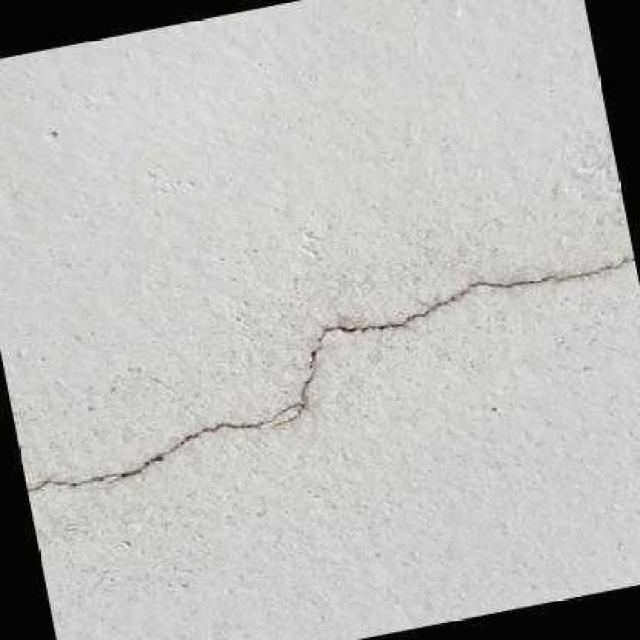D00: (26, 254, 634, 489)
